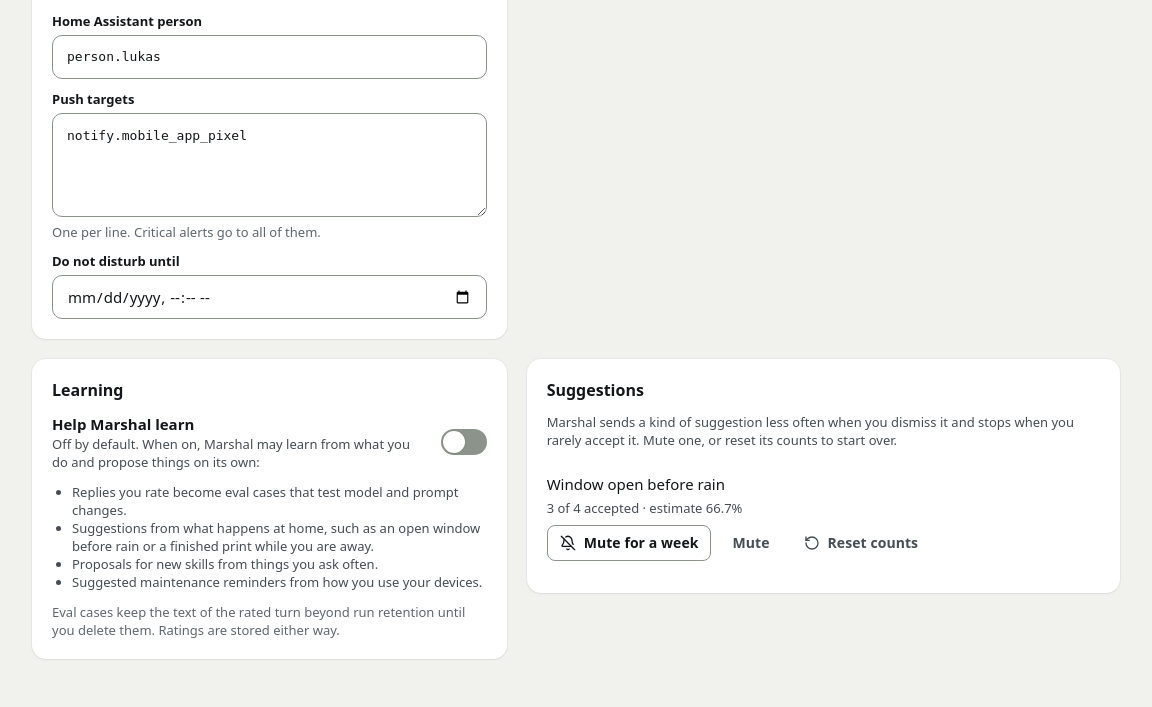
it: PreferencesView › mutes a detector for a week or indefinitely, unmutes it and resets its counts
The image size is (1152, 707).
(page scrolled)
Click the button with test id "mute-week": (629, 543) x1=547 y1=525 x2=712 y2=561
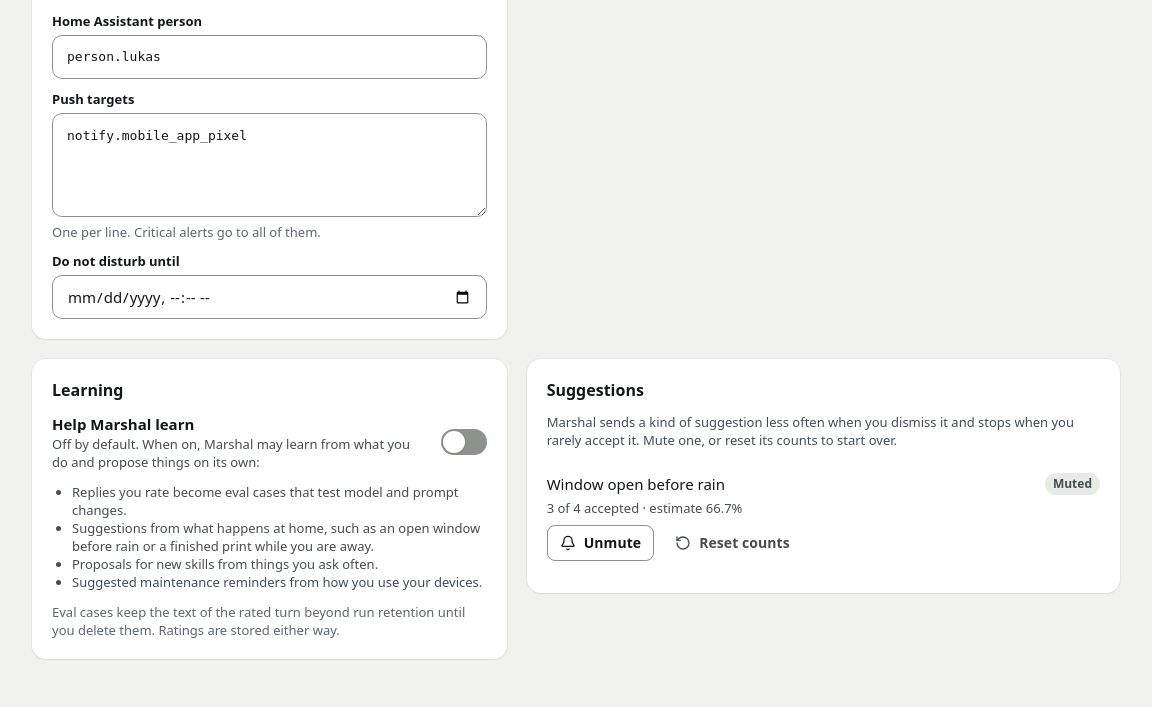
Now the list item that starts with "Window open before rain" shows "Muted", box x1=1053 y1=475 x2=1092 y2=492
Click the button with test id "unmute": (600, 543) x1=547 y1=525 x2=654 y2=561
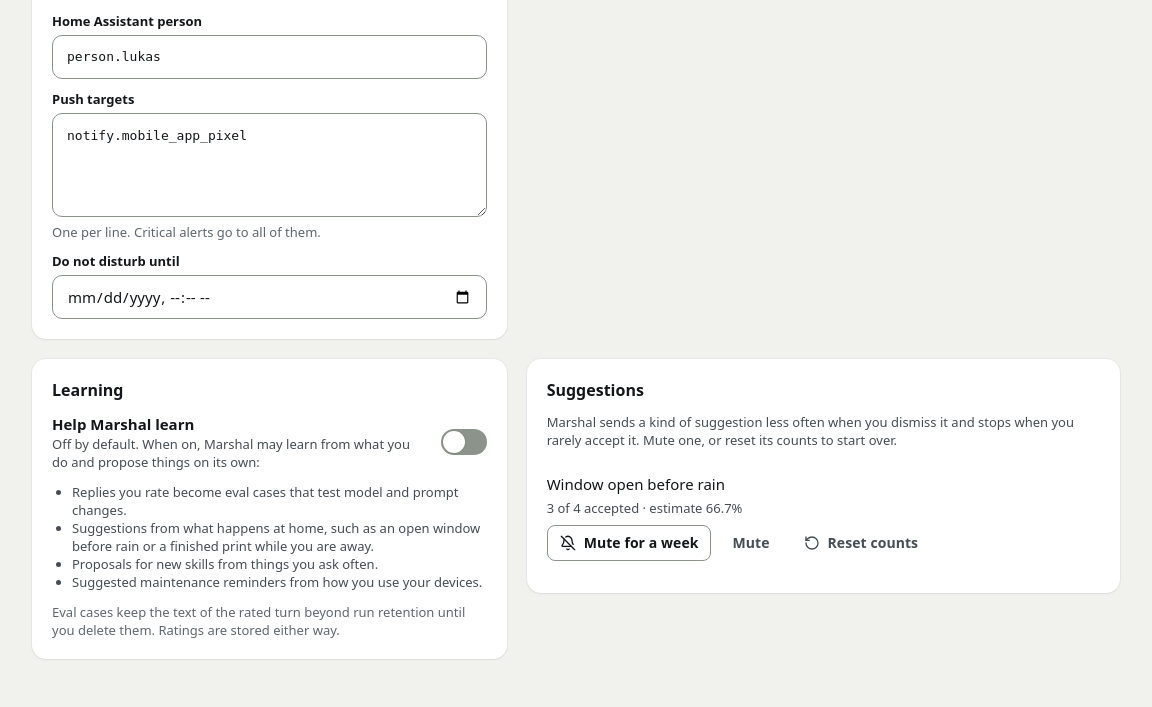
Click the button with test id "mute": (751, 543) x1=720 y1=525 x2=782 y2=561
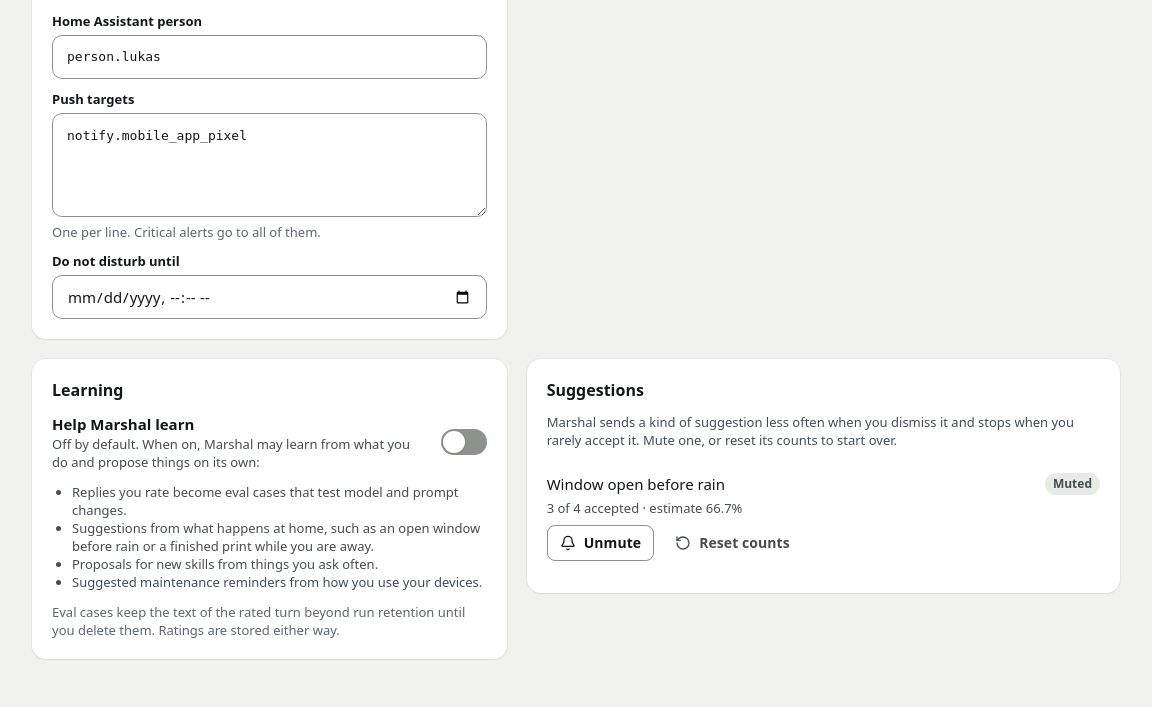
Click the button with test id "reset": (732, 543) x1=662 y1=525 x2=803 y2=561
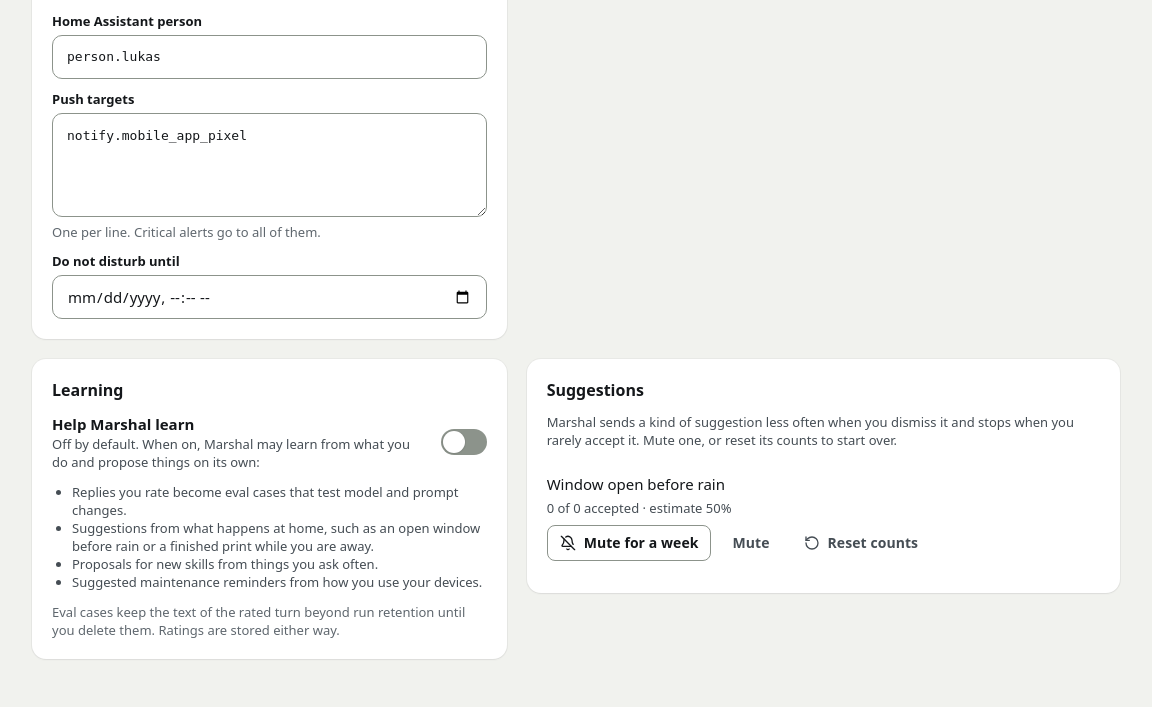
Now the list item that starts with "Window open before rain" shows "0 of 0 accepted", box x1=547 y1=499 x2=732 y2=517
